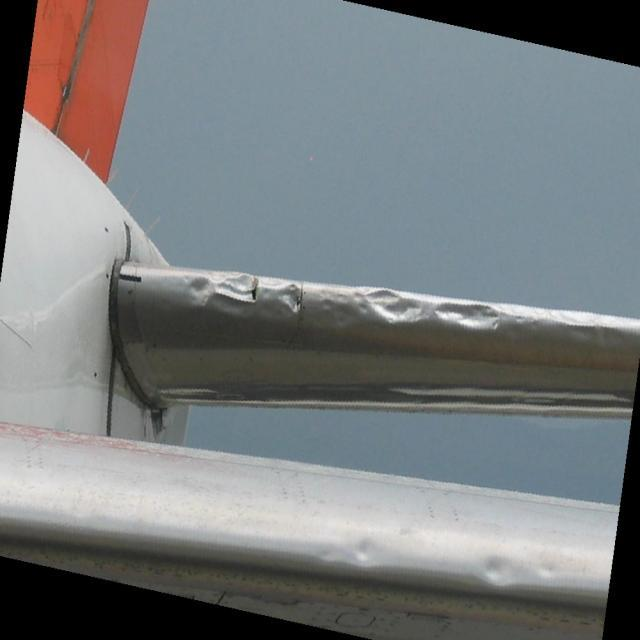dent: (183, 264, 625, 349), (323, 541, 566, 587)
